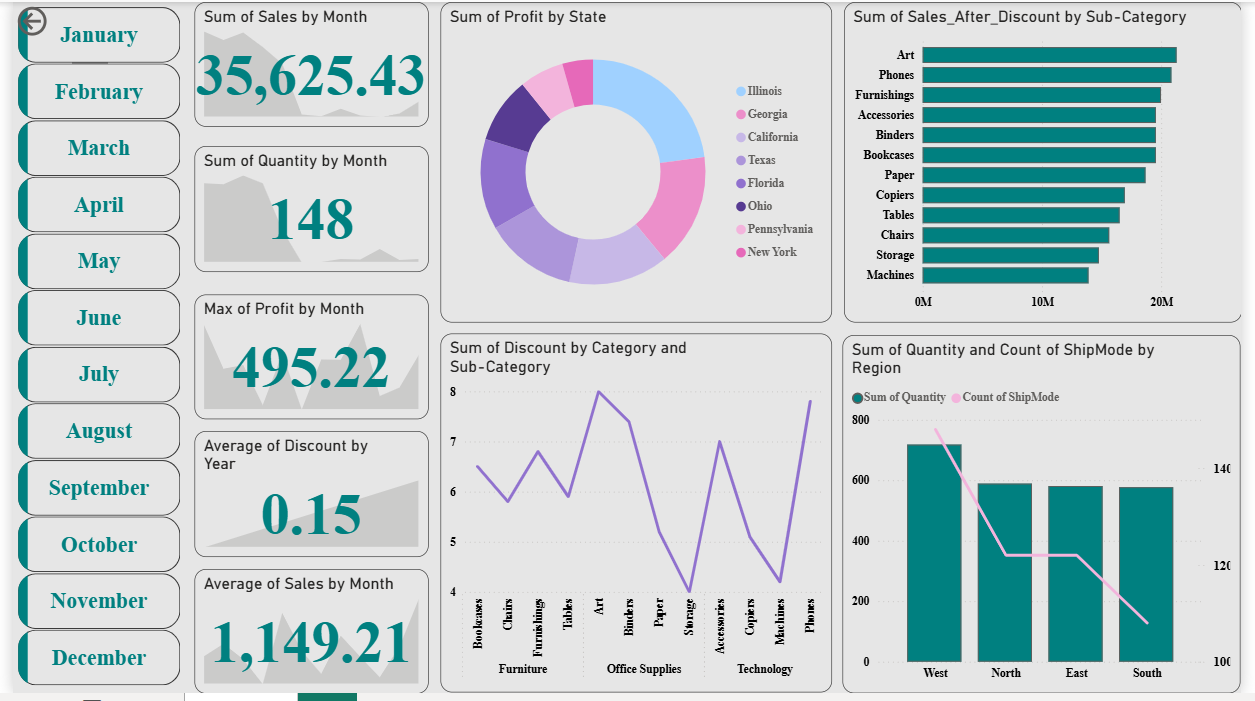

The page's visual inventory and layout, read from the dashboard file:
{"tool":"powerbi","page":{"name":"Page 1","canvas":[1280,720],"ordinal":0},"visuals":[{"type":"lineStackedColumnComboChart","fields":{"Category":["Sheet1.Region"],"Y":["Sum(Sheet1 (2).Quantity)"],"Y2":["CountNonNull(Sheet1.ShipMode)"]},"box":[864.9,346.5,414.5,373.4],"z":0},{"type":"advancedSlicerVisual","fields":{"Values":["Sheet1.OrderDate.Variation.Date Hierarchy.Month"]},"box":[0,0,179.8,720.3],"z":1000},{"type":"barChart","fields":{"Category":["Product.Sub-Category"],"Y":["Sum(Product.Sales_After_Discount)"]},"box":[865.3,0,414.7,333.8],"z":2000},{"type":"kpi","fields":{"Indicator":["Sum(Product.Sales)"],"TrendLine":["Order.EndOfMonth.Variation.Date Hierarchy.Month"]},"box":[189.1,0,243.8,129.7],"z":3000},{"type":"actionButton","box":[0,0,100,40],"z":4000},{"type":"donutChart","fields":{"Y":["Sum(Product.Profit)"],"Category":["Order.State"]},"box":[446.1,0,407.9,333.8],"z":5000},{"type":"areaChart","fields":{"Y":["Sum(Product.Discount)"],"Category":["Product.Category","Product.Sub-Category"]},"box":[446.1,346.1,407.9,374.2],"z":6000},{"type":"kpi","fields":{"TrendLine":["Order.EndOfMonth.Variation.Date Hierarchy.Month"],"Indicator":["Sum(Product.Quantity)"]},"box":[189.1,150,243.8,131.3],"z":7000},{"type":"kpi","fields":{"TrendLine":["Order.EndOfMonth.Variation.Date Hierarchy.Month"],"Indicator":["Max(Product.Profit)"]},"box":[189.1,304.8,243.8,129.7],"z":8000},{"type":"kpi","fields":{"TrendLine":["Order.EndOfMonth.Variation.Date Hierarchy.Year"],"Indicator":["Avg(Product.Discount)"]},"box":[189.1,447,243.8,131.3],"z":9000},{"type":"kpi","fields":{"TrendLine":["Order.EndOfMonth.Variation.Date Hierarchy.Month"],"Indicator":["Avg(Product.Sales)"]},"box":[189.1,590.8,243.8,129.7],"z":10000}]}

Visuals, with their boxes in screenshot pixels (x1, y1, x2, y2), scaled from the page's 1280x720 canvas onto the 1255x701 screenshot:
lineStackedColumnComboChart - Sheet1.Region x Sum(Sheet1 (2).Quantity): bbox(848, 337, 1254, 700)
advancedSlicerVisual - Sheet1.OrderDate.Variation.Date Hierarchy.Month: bbox(0, 0, 176, 700)
barChart - Product.Sub-Category x Sum(Product.Sales_After_Discount): bbox(848, 0, 1254, 325)
kpi - Sum(Product.Sales) x Order.EndOfMonth.Variation.Date Hierarchy.Month: bbox(185, 0, 424, 126)
actionButton: bbox(0, 0, 98, 39)
donutChart - Sum(Product.Profit) x Order.State: bbox(437, 0, 837, 325)
areaChart - Sum(Product.Discount) x Product.Category: bbox(437, 337, 837, 700)
kpi - Order.EndOfMonth.Variation.Date Hierarchy.Month x Sum(Product.Quantity): bbox(185, 146, 424, 274)
kpi - Order.EndOfMonth.Variation.Date Hierarchy.Month x Max(Product.Profit): bbox(185, 297, 424, 423)
kpi - Order.EndOfMonth.Variation.Date Hierarchy.Year x Avg(Product.Discount): bbox(185, 435, 424, 563)
kpi - Order.EndOfMonth.Variation.Date Hierarchy.Month x Avg(Product.Sales): bbox(185, 575, 424, 700)
